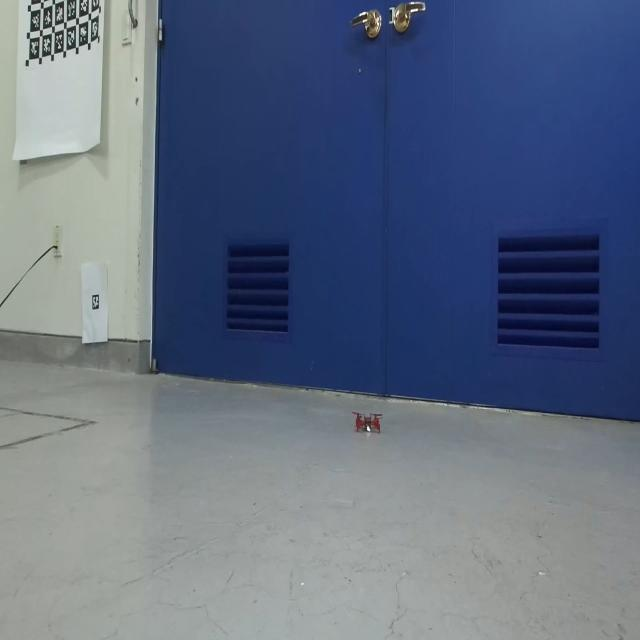crazyflie: (352, 410, 388, 440)
